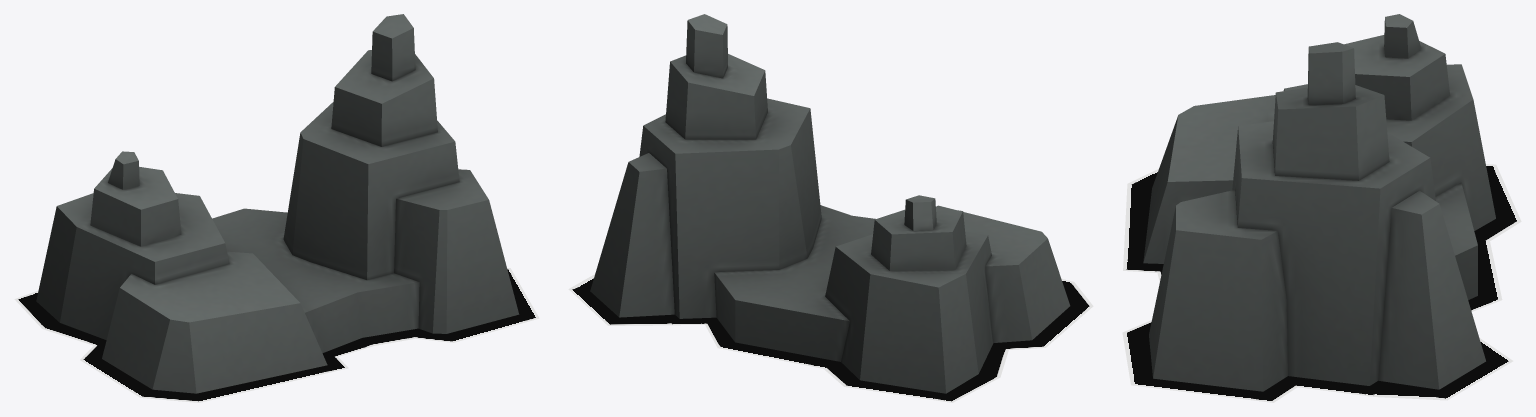
The model's file is 3x2_rock.FBX.
The picture shows the model from 3 angles, left to right: view 1: azimuth 30°, elevation 25°; view 2: azimuth 150°, elevation 25°; view 3: azimuth 270°, elevation 25°; orthographic projection. The views are drawn at different scales.
Visible parts, largest first — view 1: 3x2_rock, 3x2_rock_soft_shadow; view 2: 3x2_rock, 3x2_rock_soft_shadow; view 3: 3x2_rock, 3x2_rock_soft_shadow.
Part boxes in pixels (box(x1,y1,x2,y2)): 3x2_rock: box(36, 14, 519, 393); 3x2_rock_soft_shadow: box(14, 268, 539, 402); 3x2_rock: box(590, 14, 1070, 393); 3x2_rock_soft_shadow: box(568, 274, 1093, 402); 3x2_rock: box(1143, 14, 1495, 391); 3x2_rock_soft_shadow: box(1122, 164, 1521, 402).
Size of the model in its own units: 3218 by 1869 by 2205.
